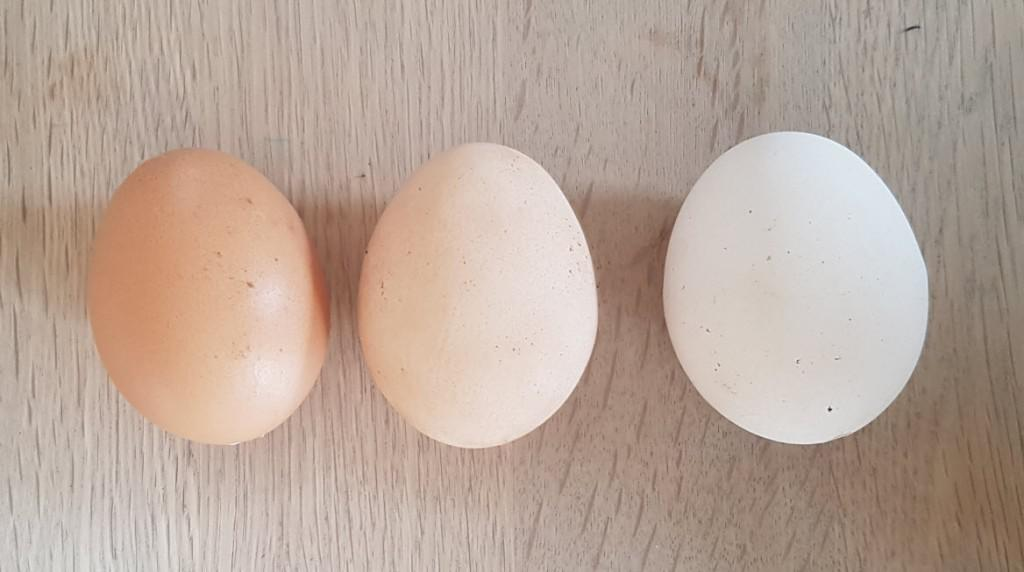egg: (658, 127, 938, 451), (353, 136, 603, 454), (82, 142, 338, 448)
